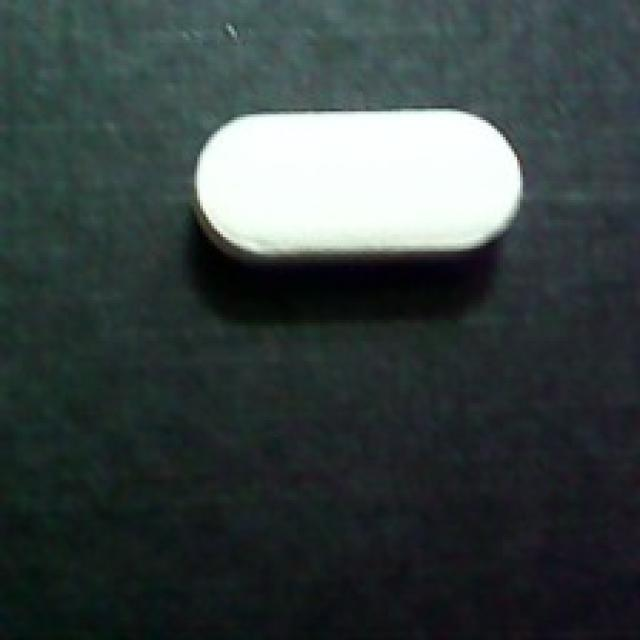no-defect: (189, 106, 526, 280)
